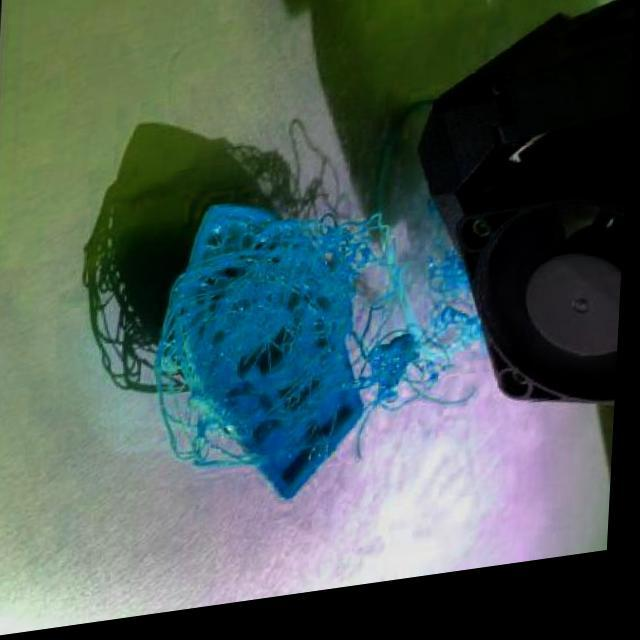spaghetti: (154, 203, 495, 494)
